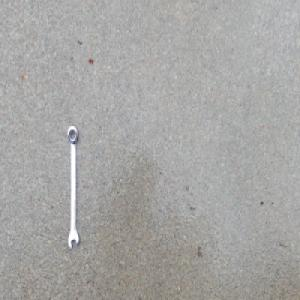Wrench: (66, 124, 80, 250)
